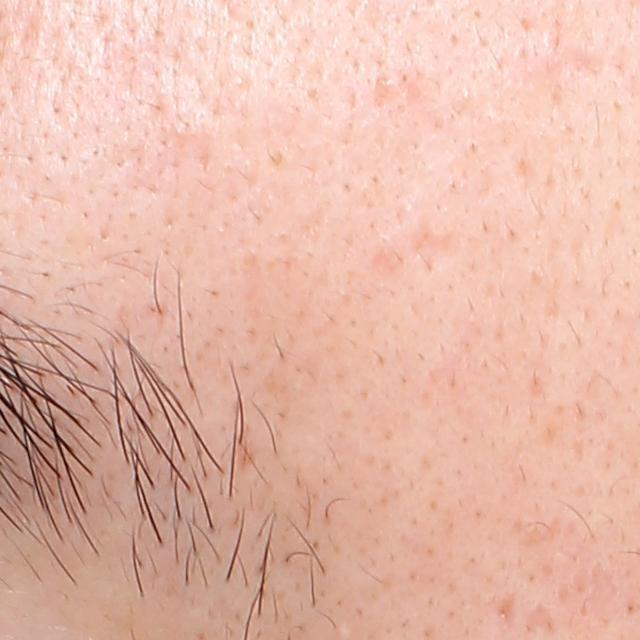atrophic_scar: (407, 219, 470, 259), (524, 602, 562, 639), (494, 590, 518, 632)
